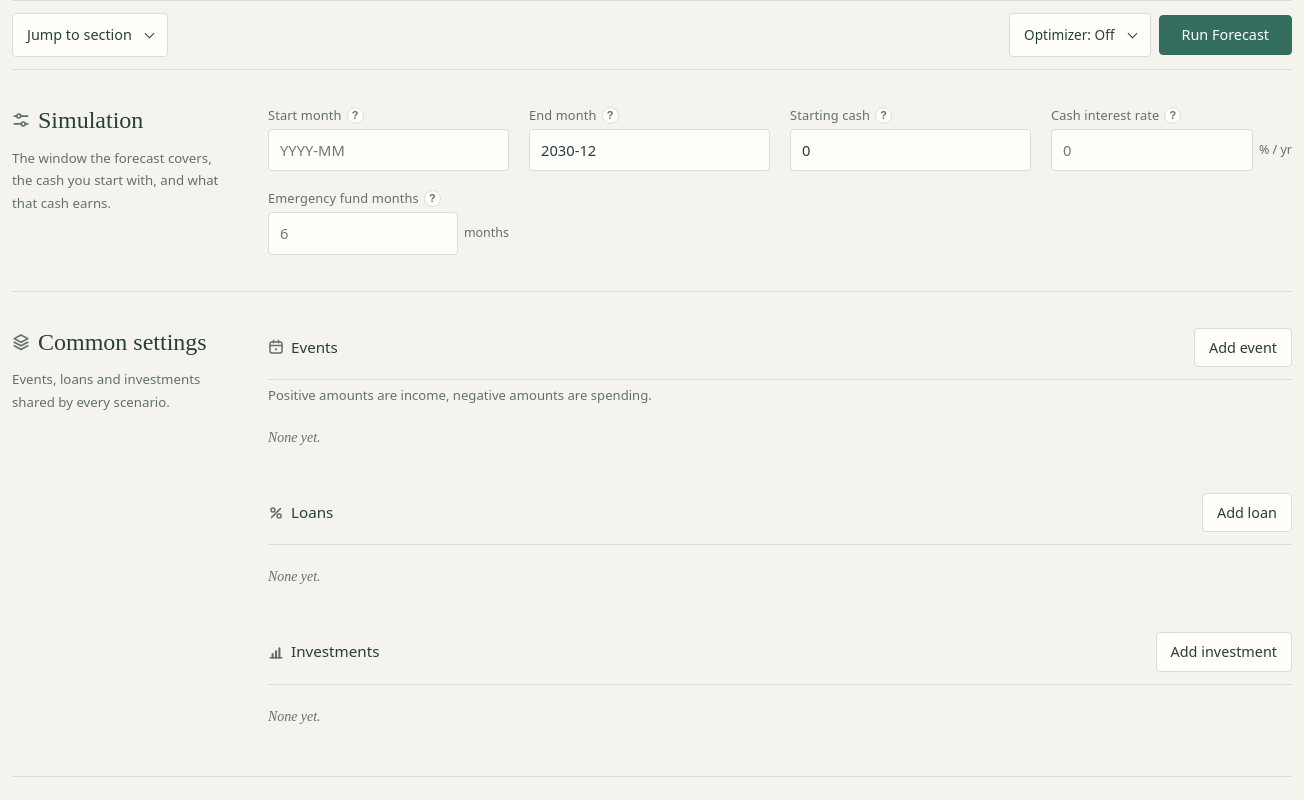
finding optimized events › warns that the optimizer switch is off
The width and height of the screenshot is (1304, 800).
Click the button with class "optctl__list".
click(1080, 35)  # box [1009,13,1150,57]
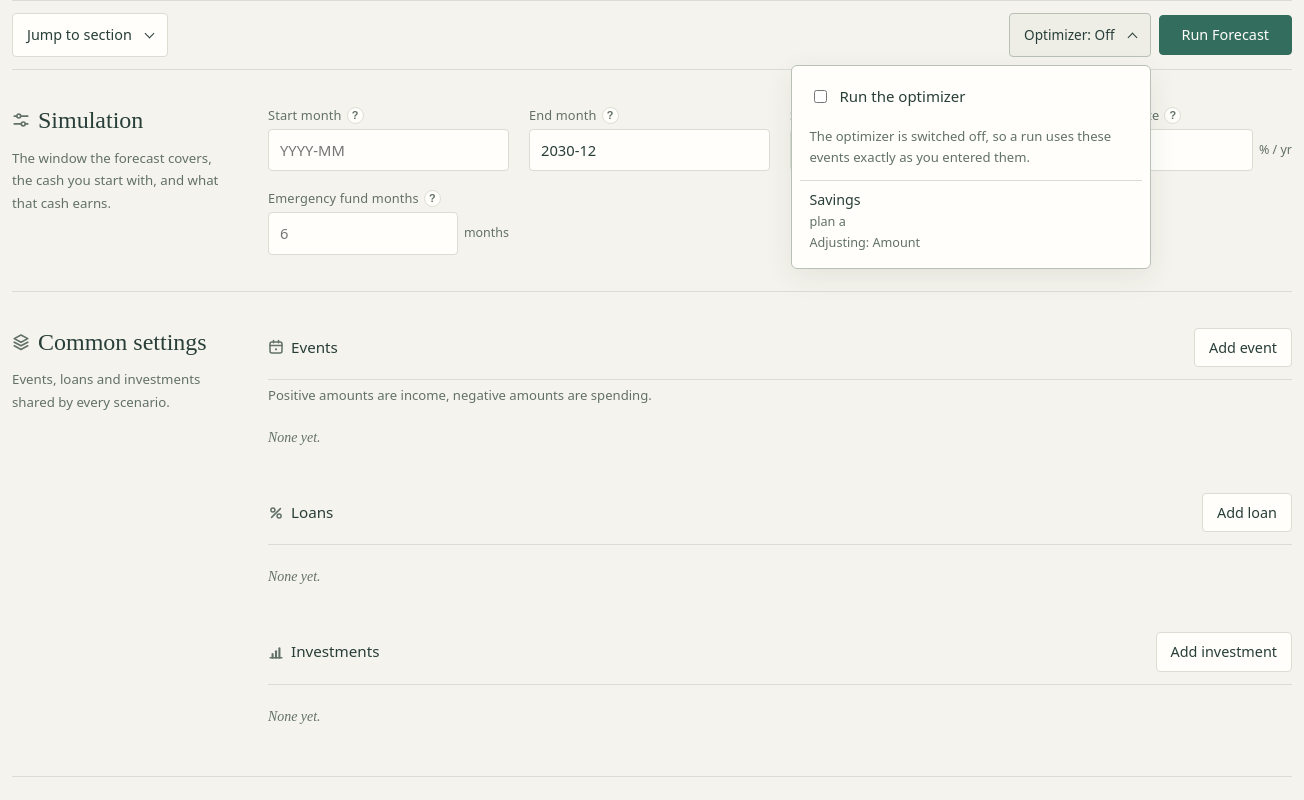
Expected: the element with class "optctl__panel" shows "switched off", [810,127,1111,166]
